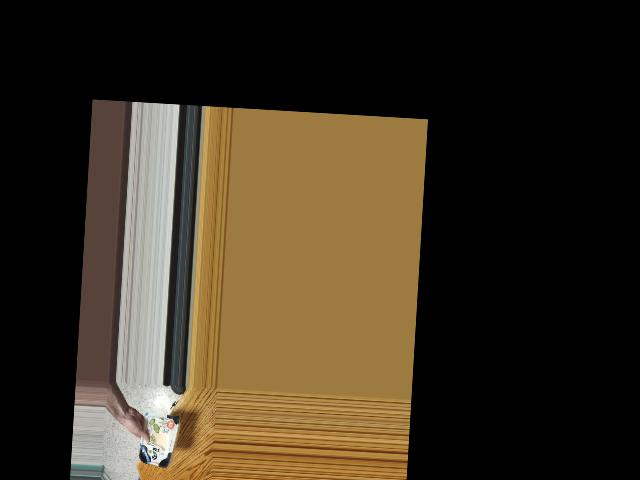cheese: (140, 416, 173, 467)
